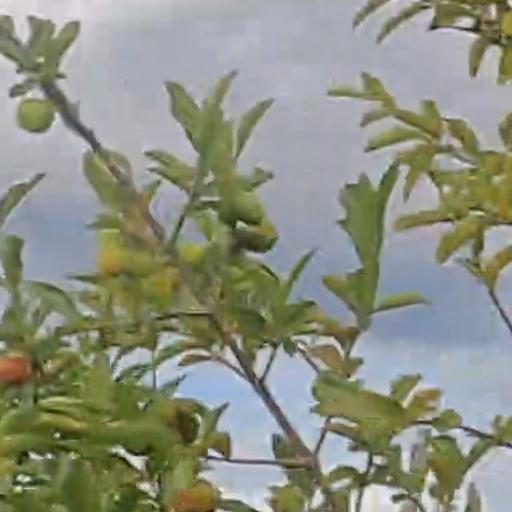acerola_verde: (18, 99, 54, 132)
acerola_vermelha: (176, 480, 217, 510), (1, 354, 33, 381)
